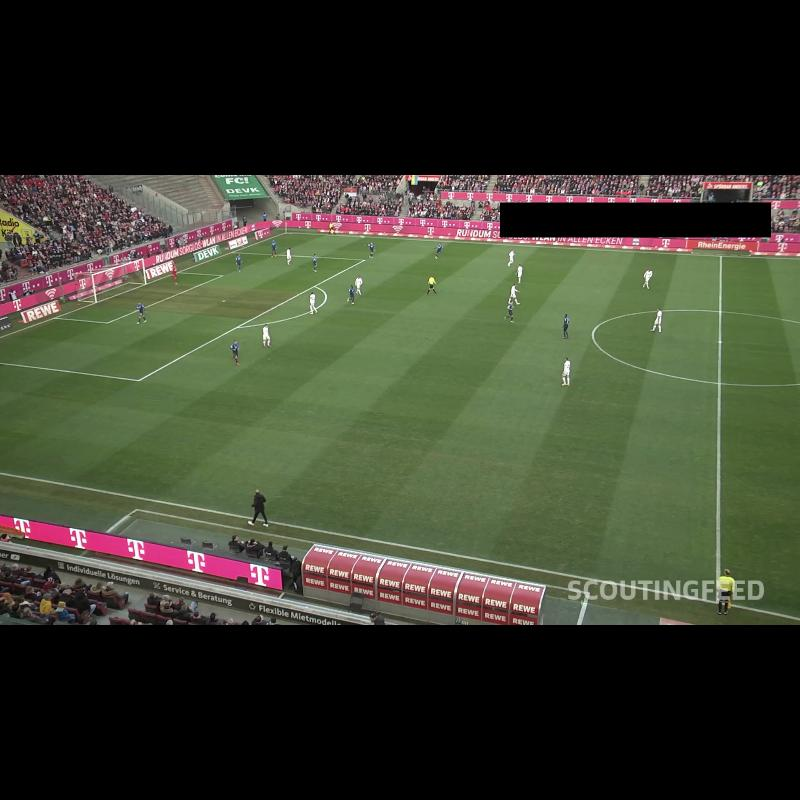cross_recipient_zone: (0, 252, 365, 381)
crossing_player_zone: (0, 363, 284, 501), (235, 233, 494, 265)
pitch: (0, 233, 800, 621)
